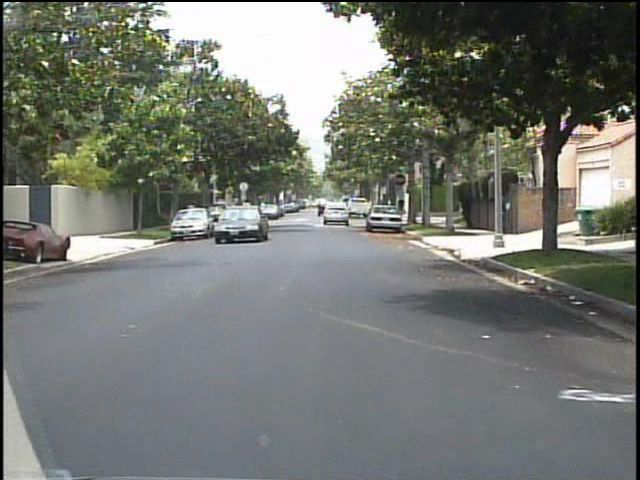person: (497, 192, 515, 237), (184, 199, 201, 232)
